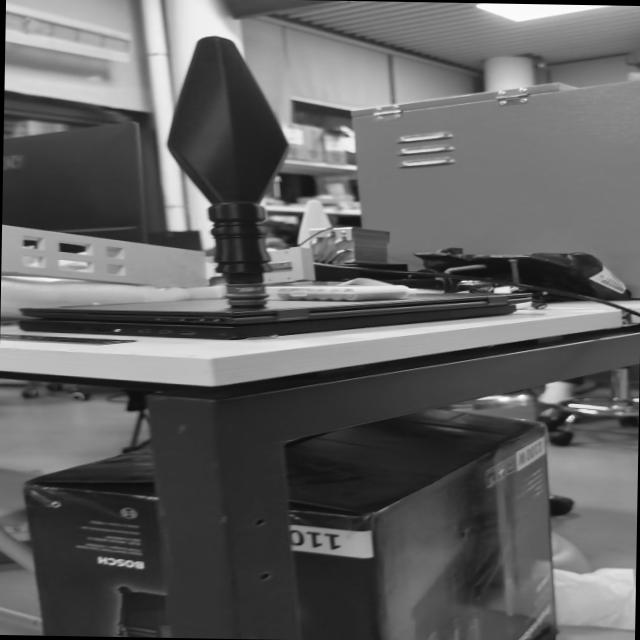base: (210, 277, 278, 315)
